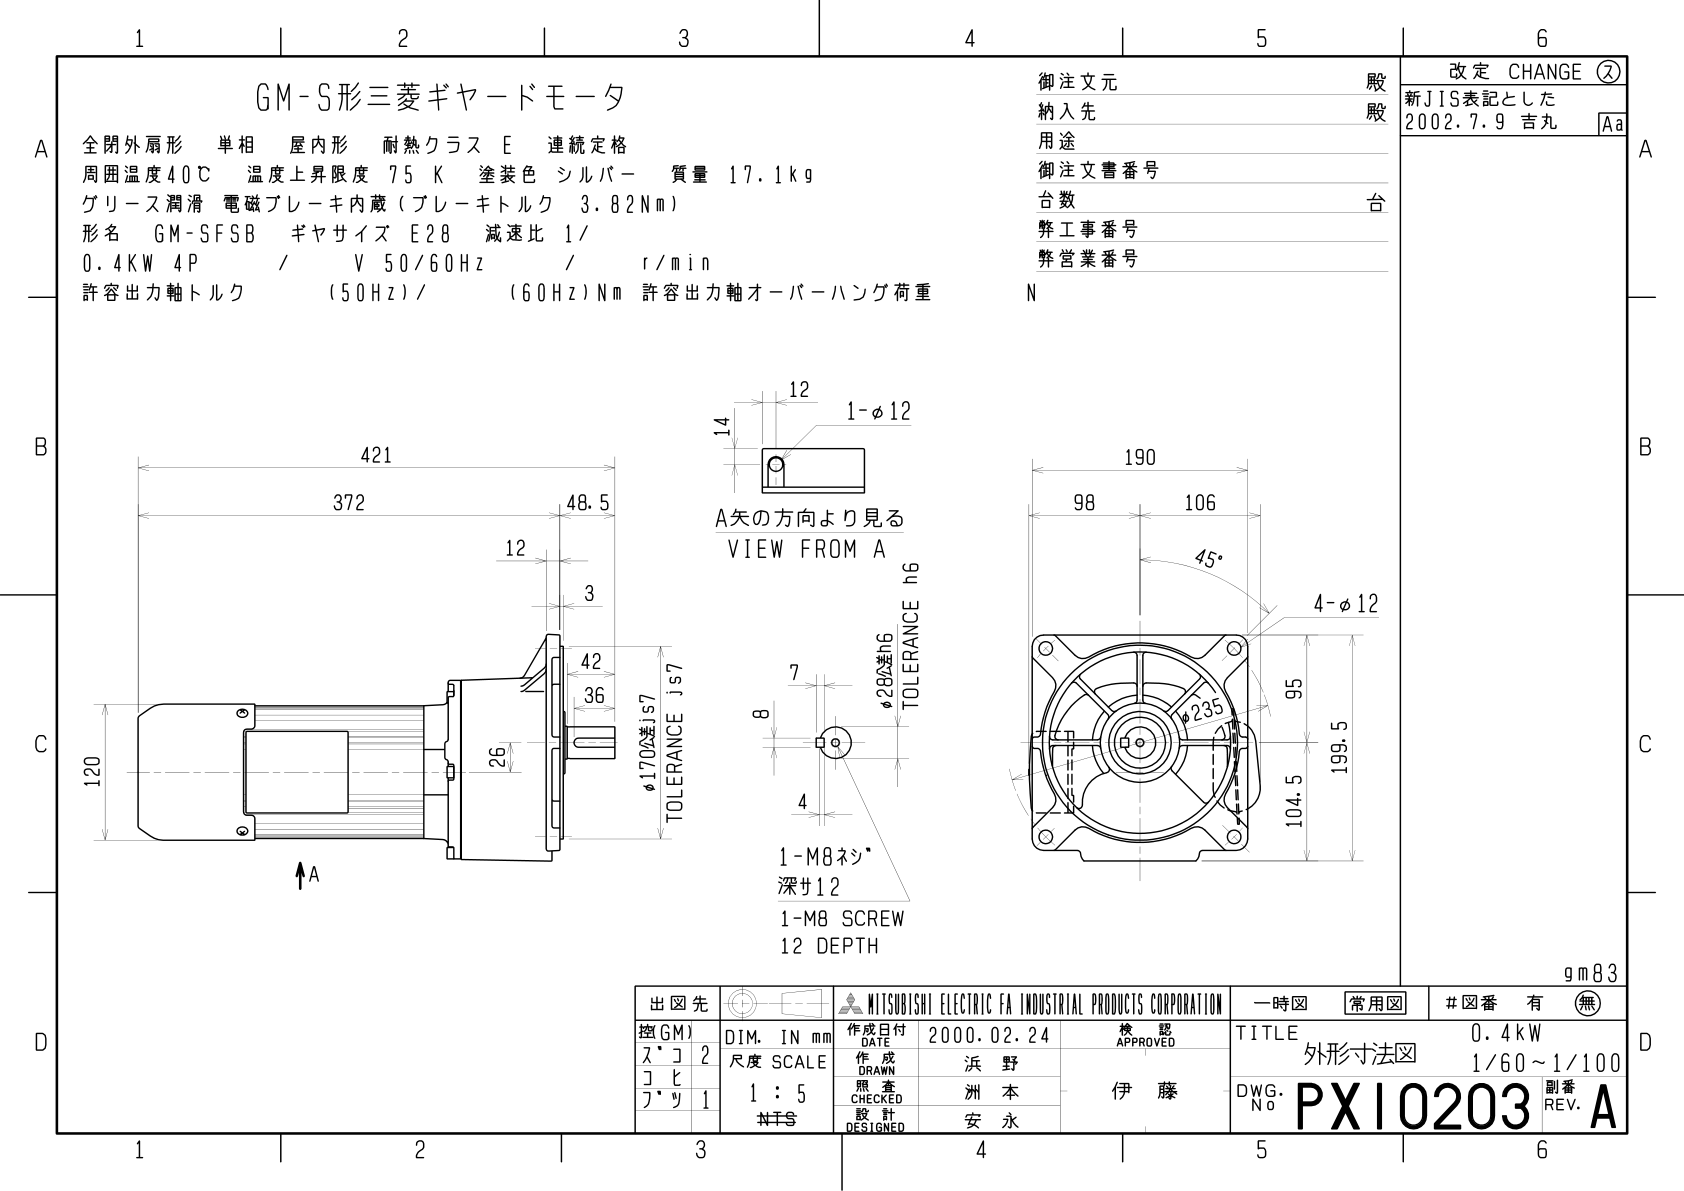GM_S_屋内＿単相_フランジ: (73, 353, 1381, 967)
